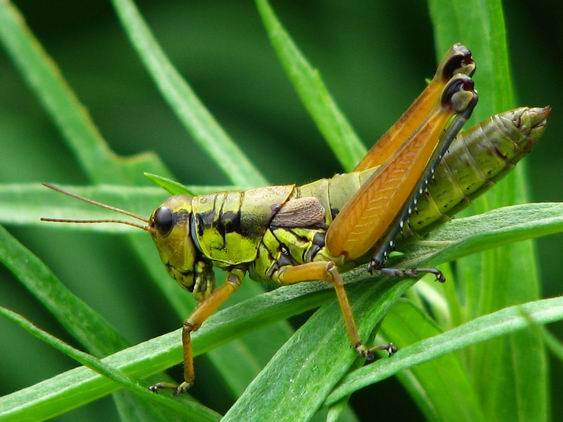huangchong: (143, 94, 551, 331)
